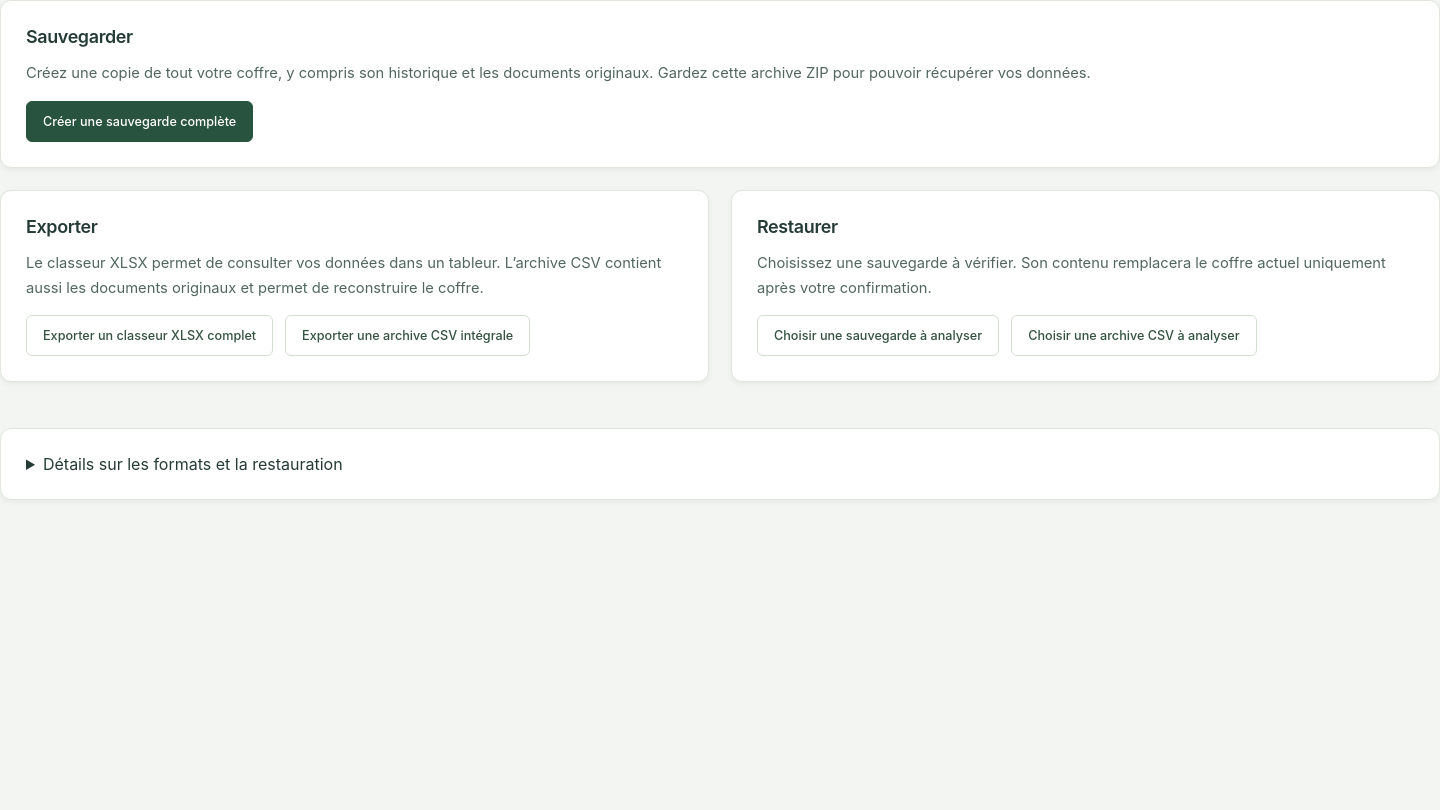
Test: Portabilité intégrale › PORT-01 rafraîchit une activation effectuée et affiche la reprise encore nécessaire
Click the button "Choisir une archive CSV à analyser". click: (1134, 336)
box: 1011,316 -> 1257,356
(page scrolled)
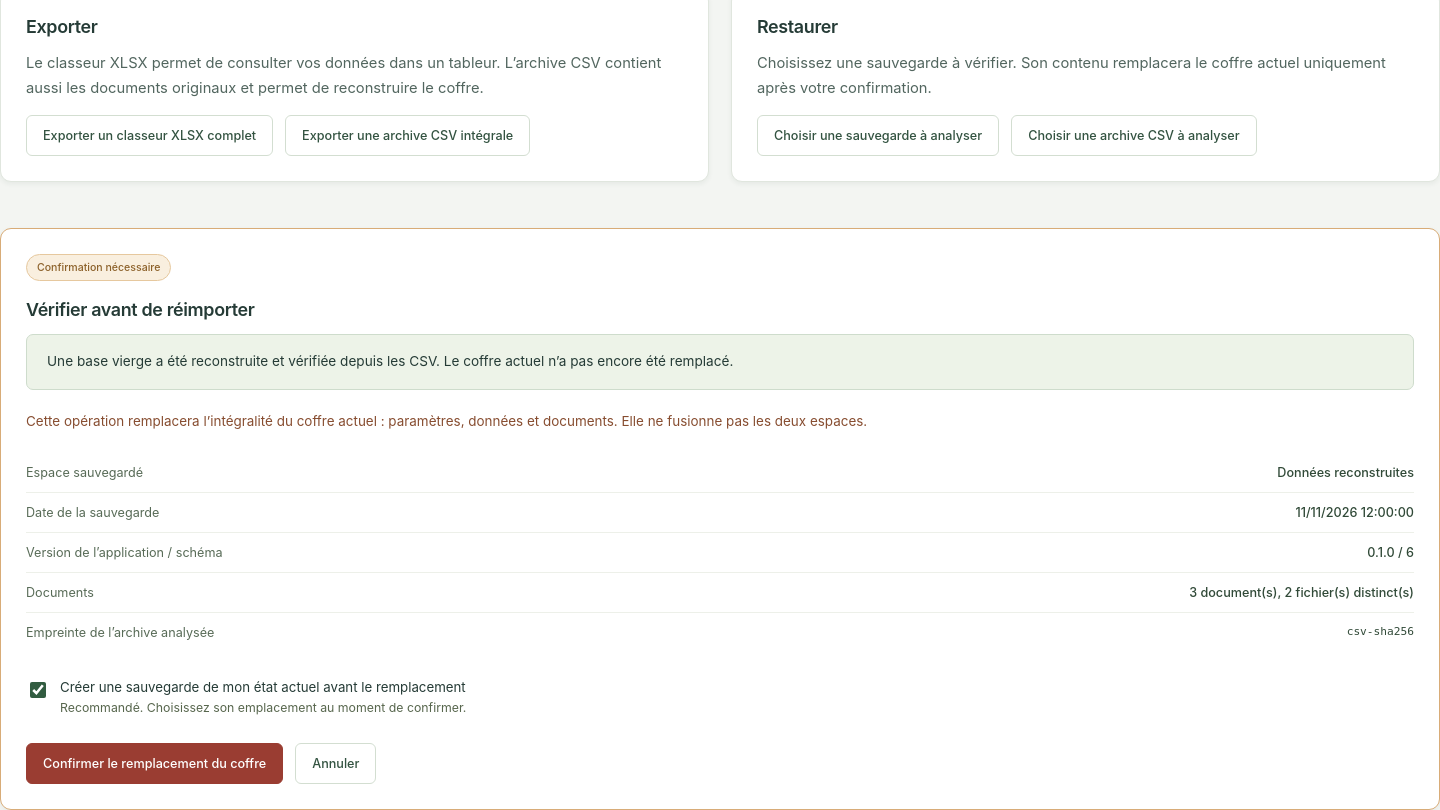
Now the heading "Vérifier avant de réimporter" is shown, box 26,300 -> 255,320
Click the button "Confirmer le remplacement du coffre". click: (155, 764)
box: 26,743 -> 283,784
(page scrolled)
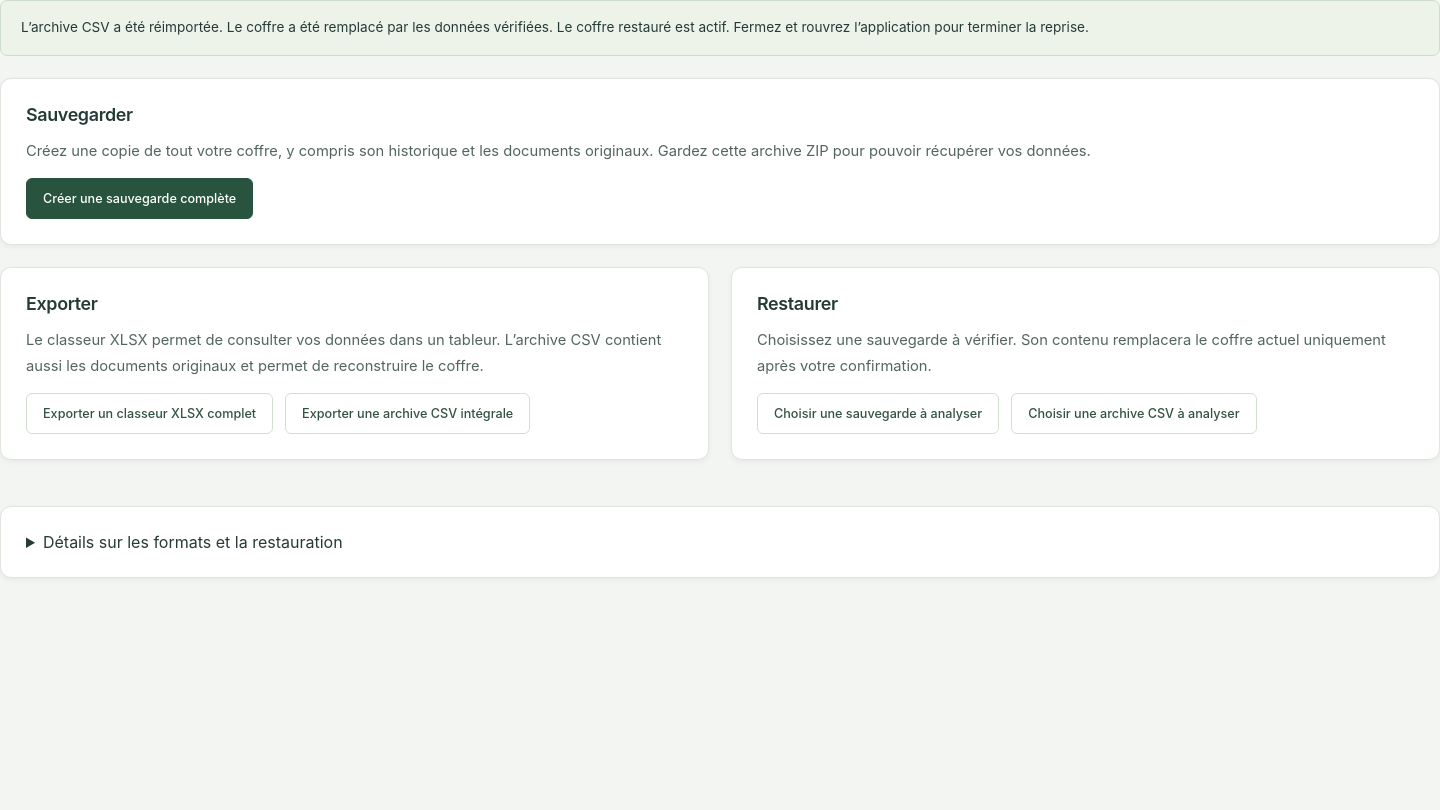
Now the heading "Vérifier avant de réimporter" is gone
